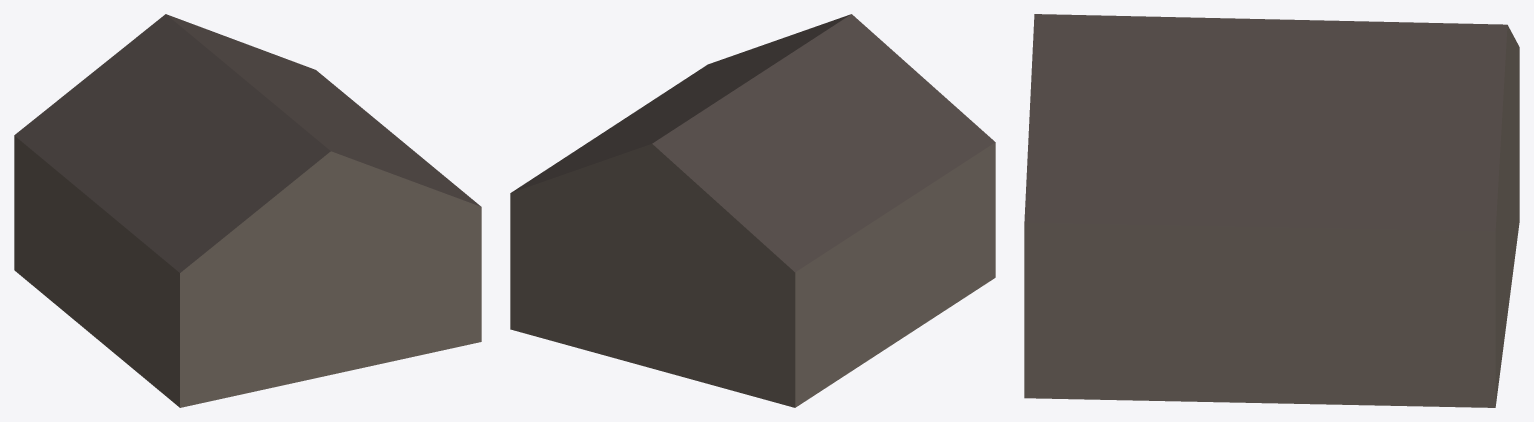
3 views of the same model, side by side, from view 1: azimuth 30°, elevation 25°; view 2: azimuth 150°, elevation 25°; view 3: azimuth 270°, elevation 25° (orthographic). The views are drawn at different scales.
Visible parts, largest first — view 1: HP-w859078994; view 2: HP-w859078994; view 3: HP-w859078994.
Part boxes in pixels (x1=…): HP-w859078994: x1=14, y1=14, x2=481, y2=407; HP-w859078994: x1=510, y1=14, x2=995, y2=407; HP-w859078994: x1=1024, y1=14, x2=1519, y2=407.
Size of the model in its own units: 14.41 by 9.96 by 15.36.
